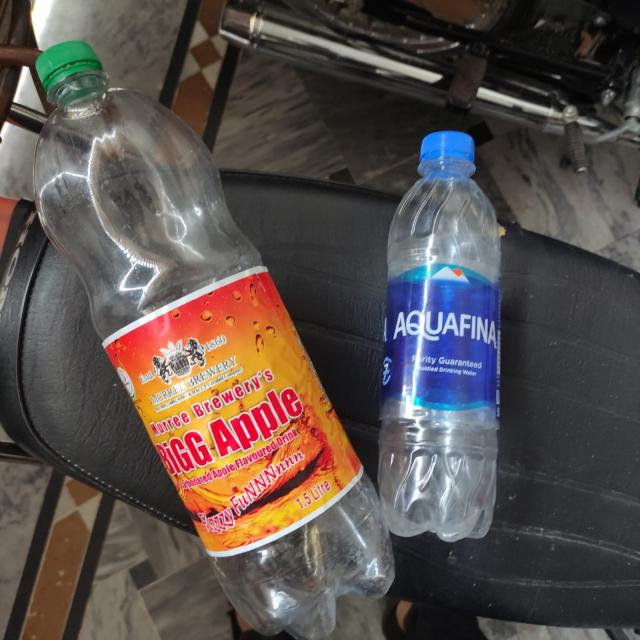bottle: (370, 120, 512, 528)
cap: (34, 44, 104, 92), (418, 128, 482, 180)
label: (136, 274, 320, 532)
